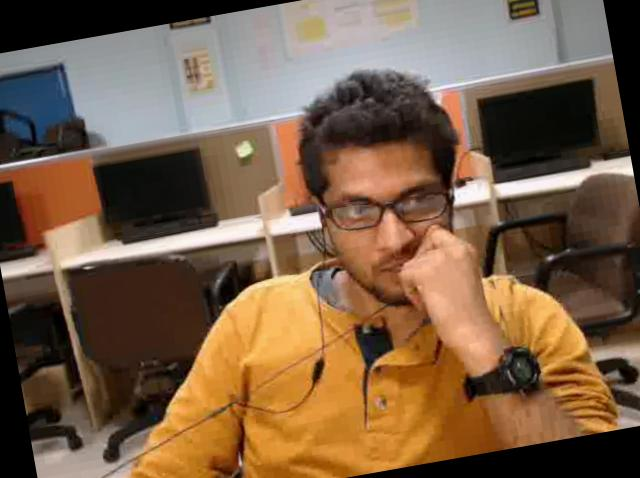bingung: (317, 134, 464, 311)
